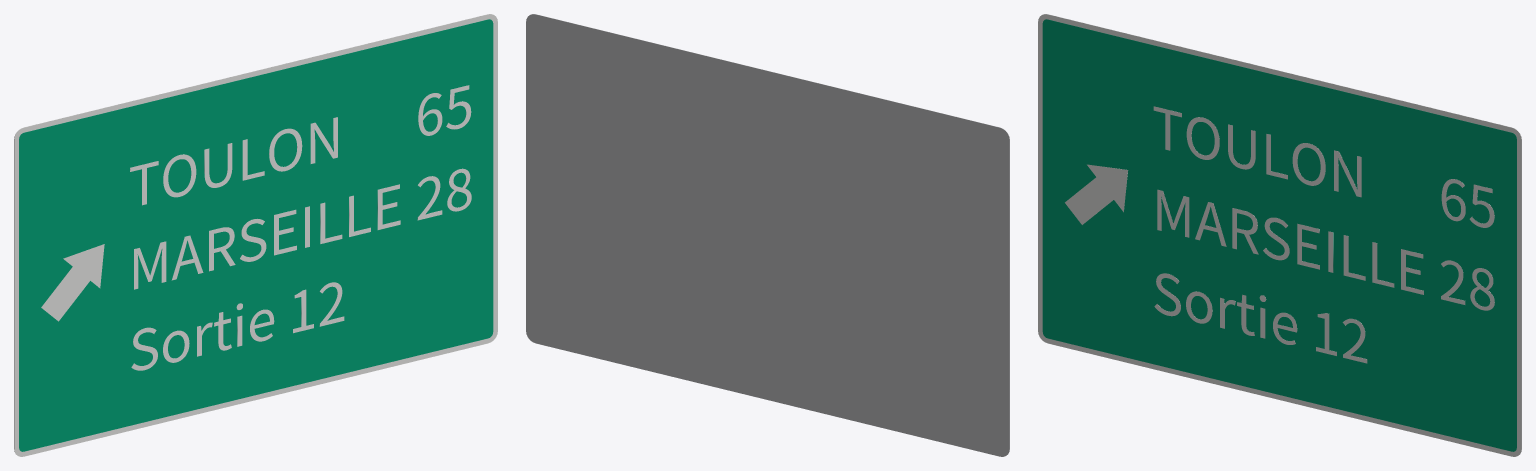
The picture shows the model from 3 angles, left to right: view 1: azimuth 30°, elevation 25°; view 2: azimuth 150°, elevation 25°; view 3: azimuth 330°, elevation 25°; orthographic projection.
Visible parts, largest first — view 1: D31e_fond01, D31e_cadre00, D31e_txt05, D31e_txt03, D31e_txt07, D31e_fl02, D31e_txt04, D31e_txt06, D31e_dos; view 2: D31e_dos; view 3: D31e_fond01, D31e_cadre00, D31e_txt05, D31e_txt03, D31e_txt07, D31e_fl02, D31e_txt04, D31e_txt06, D31e_dos.
Boxes of the visible parts, x1,y1,x2,y2 form: D31e_fond01: [19, 19, 493, 451]; D31e_cadre00: [14, 14, 497, 456]; D31e_txt05: [134, 184, 400, 289]; D31e_txt03: [130, 117, 337, 205]; D31e_txt07: [131, 282, 344, 370]; D31e_fl02: [41, 244, 104, 321]; D31e_txt04: [418, 85, 471, 135]; D31e_txt06: [417, 168, 471, 220]; D31e_dos: [14, 14, 490, 451]; D31e_dos: [526, 14, 1009, 456]; D31e_fond01: [1042, 19, 1516, 451]; D31e_cadre00: [1038, 14, 1521, 456]; D31e_txt05: [1157, 189, 1423, 294]; D31e_txt03: [1153, 106, 1361, 197]; D31e_txt07: [1154, 273, 1367, 363]; D31e_fl02: [1065, 164, 1127, 224]; D31e_txt04: [1441, 179, 1494, 227]; D31e_txt06: [1441, 260, 1494, 310]; D31e_dos: [1045, 14, 1521, 451].
Size of the model in its own units: 2 by 1.3 by 0.0045.
